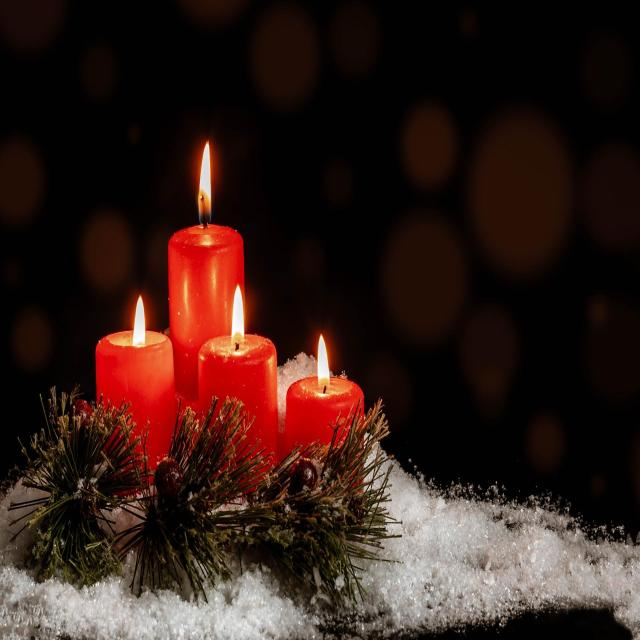Fire_Save: (93, 138, 366, 506), (167, 139, 246, 404), (196, 284, 279, 502), (94, 294, 176, 491), (284, 332, 365, 468)
